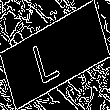L_N: (38, 26, 72, 84)
